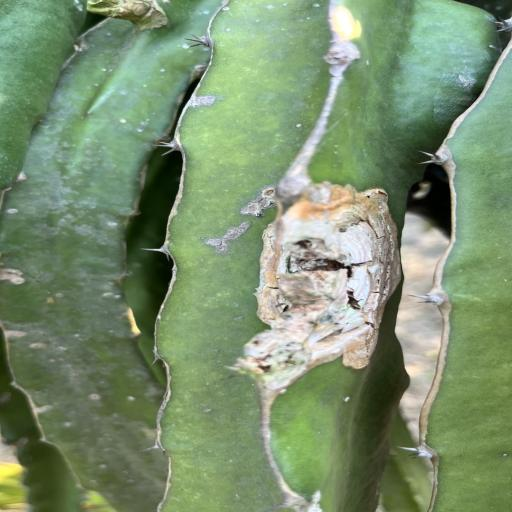stemcanker: (25, 339, 90, 367), (254, 2, 324, 20), (83, 390, 140, 407), (112, 114, 151, 134), (0, 205, 37, 226), (278, 110, 306, 135), (46, 412, 82, 431), (94, 214, 128, 233), (218, 5, 238, 36), (42, 288, 70, 308), (198, 405, 223, 423), (258, 187, 278, 209), (336, 391, 358, 408), (90, 458, 115, 472), (492, 447, 512, 464), (70, 330, 90, 346), (361, 57, 379, 71), (340, 394, 352, 404), (296, 121, 304, 130)
